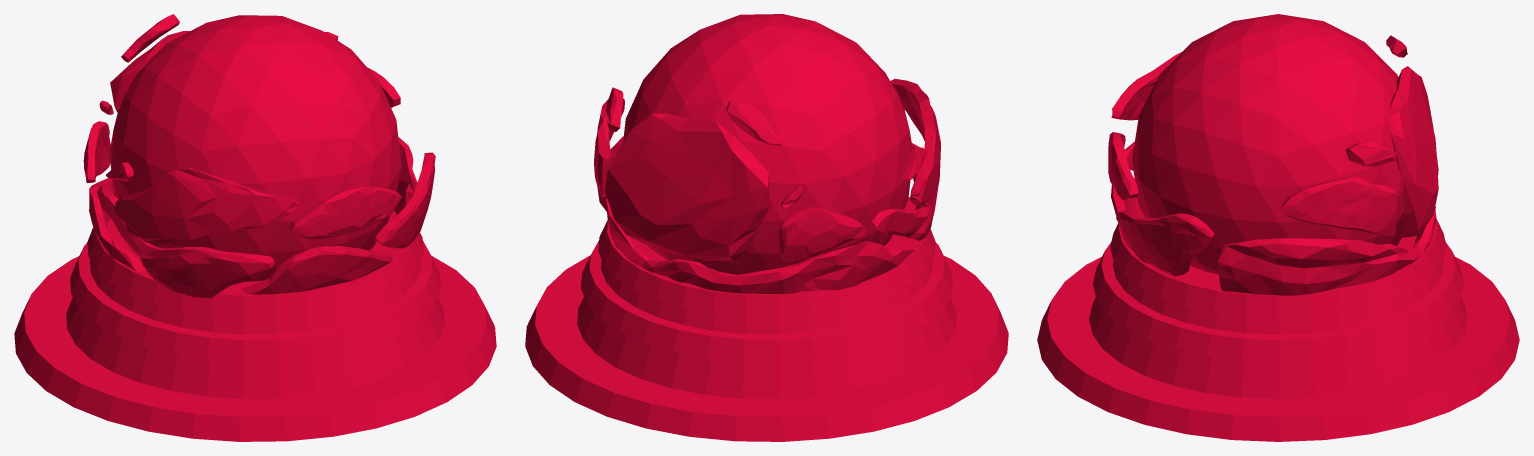
File: MagicBall_Lp.fbx
3 views of the same model, side by side, from view 1: azimuth 30°, elevation 25°; view 2: azimuth 150°, elevation 25°; view 3: azimuth 270°, elevation 25° (orthographic).
Visible parts, largest first — view 1: MagicBall_low, MagicBall_Rocks_low; view 2: MagicBall_low, MagicBall_Rocks_low; view 3: MagicBall_low, MagicBall_Rocks_low.
Part boxes in pixels (x1,y1,x2,y2): MagicBall_low: (14,15,496,441); MagicBall_Rocks_low: (83,14,435,298); MagicBall_low: (525,14,1008,441); MagicBall_Rocks_low: (594,79,940,261); MagicBall_low: (1037,14,1519,441); MagicBall_Rocks_low: (1108,35,1438,276).
Size of the model in its own units: 81.56 by 58.25 by 81.56.
